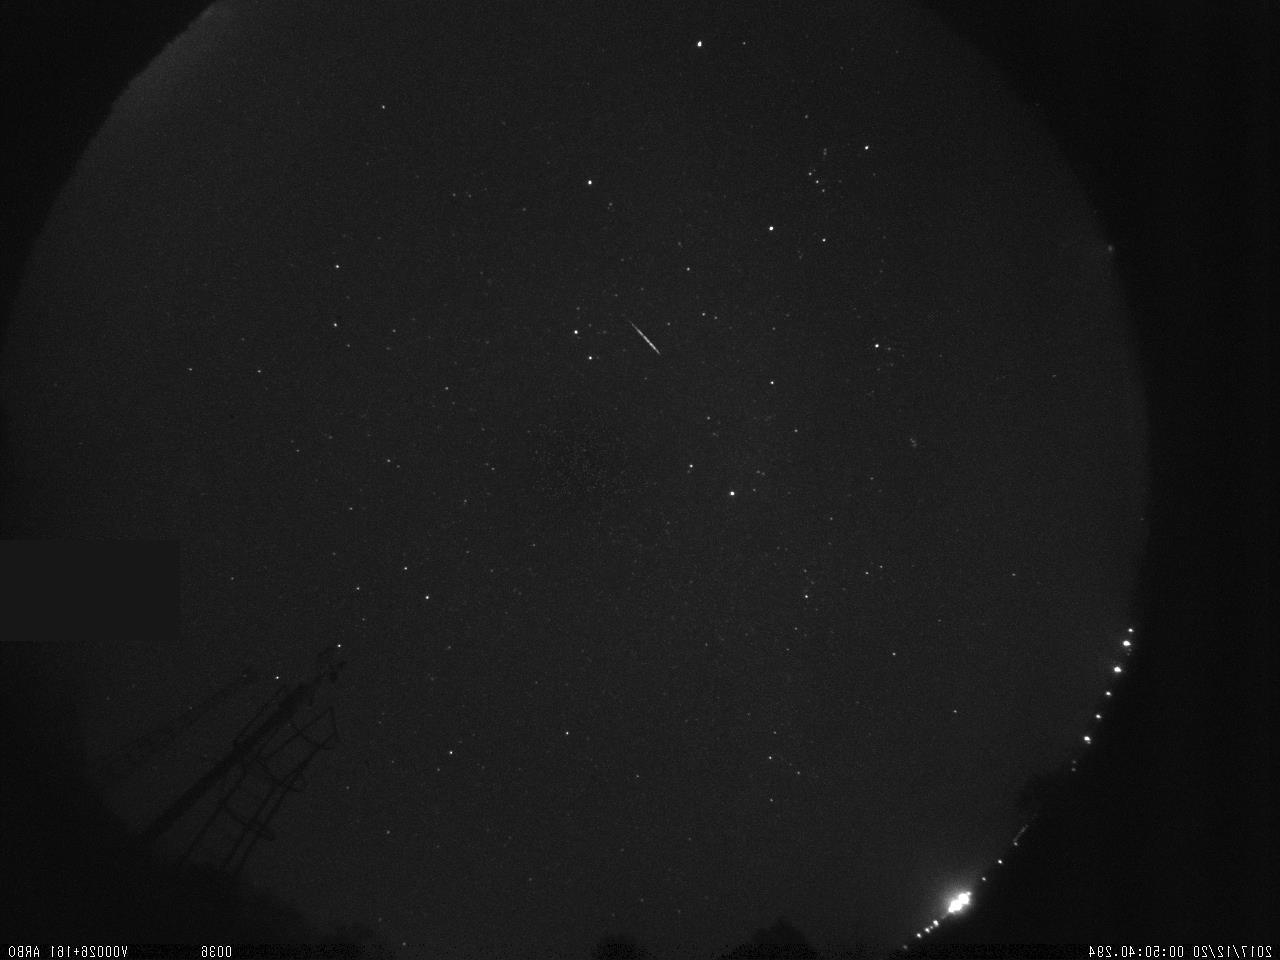meteor: (617, 308, 672, 366)
